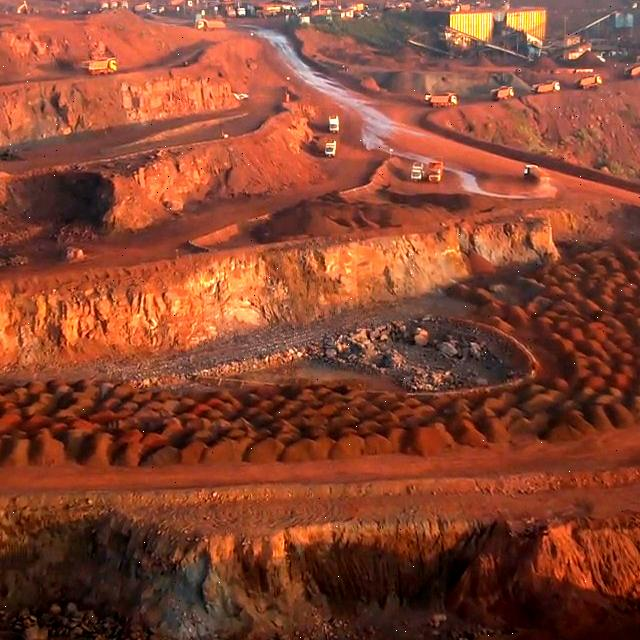Dumper truck: (80, 58, 118, 74), (572, 75, 602, 89), (426, 92, 458, 105), (530, 81, 560, 93)
car: (409, 161, 425, 182), (328, 115, 340, 134), (326, 139, 338, 158)
